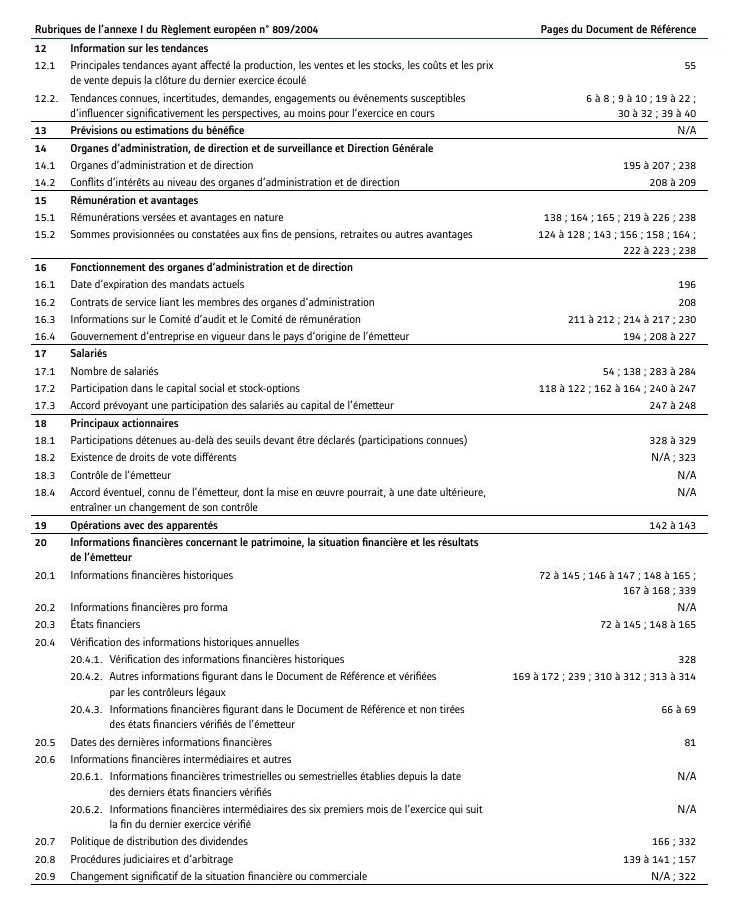table: (0, 0, 747, 911)
